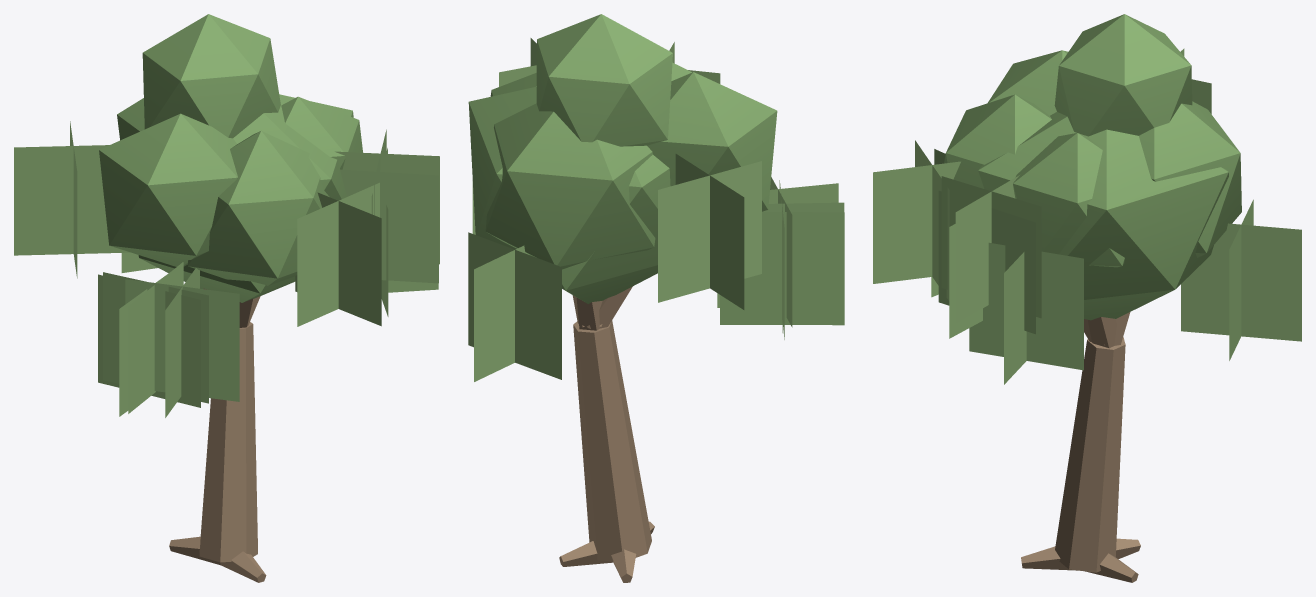
Rendered from tree_round_2.glb.
3 views of the same model, side by side, from view 1: azimuth 30°, elevation 25°; view 2: azimuth 150°, elevation 25°; view 3: azimuth 270°, elevation 25° (orthographic). The views are drawn at different scales.
Parts seen in each view (by area): view 1: copa, racimos, tronco; view 2: copa, racimos, tronco; view 3: copa, racimos, tronco.
Part boxes in pixels (x1,y1,x2,y2): copa: [99, 14, 362, 302]; racimos: [14, 121, 439, 417]; tronco: [169, 288, 266, 582]; copa: [468, 14, 777, 303]; racimos: [468, 38, 844, 381]; tronco: [559, 286, 654, 582]; copa: [944, 14, 1241, 320]; racimos: [873, 48, 1301, 384]; tronco: [1021, 312, 1140, 582].
Bounding box in the file's own units: 2.02 × 3.06 × 2.15.
